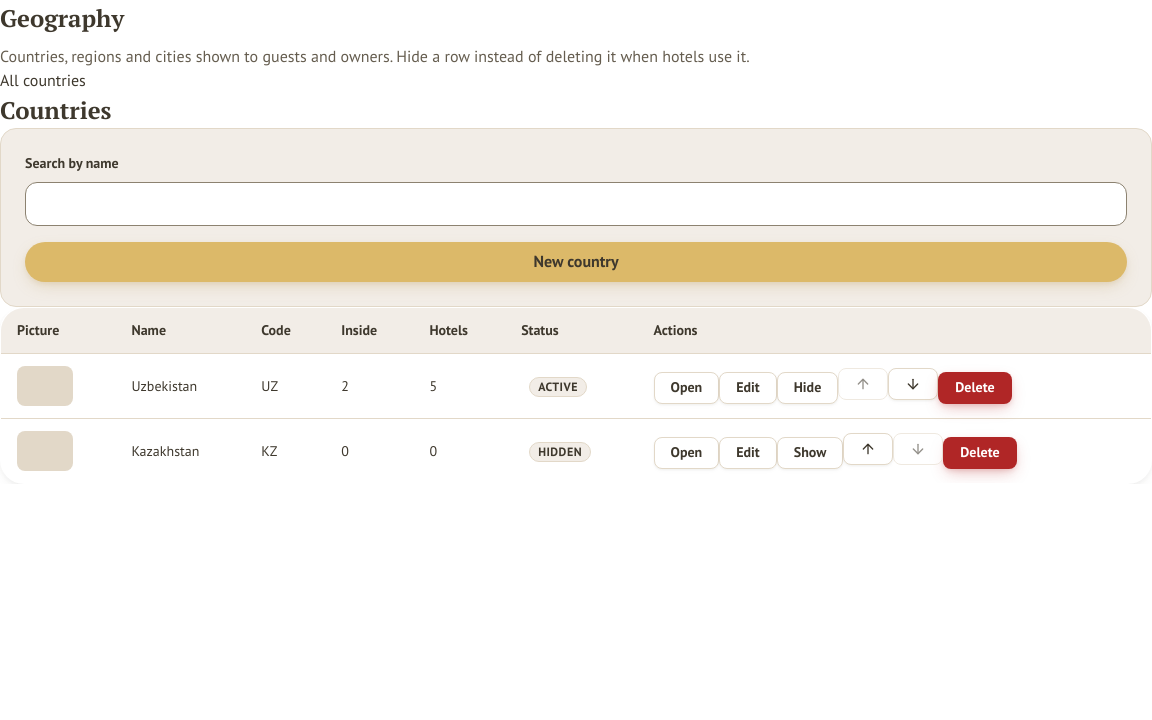
Test: AdminGeography › deletes after a confirmation
The width and height of the screenshot is (1152, 720).
Click the button with aria-label "Delete Kazakhstan".
click(980, 453)  # box [943, 437, 1017, 469]
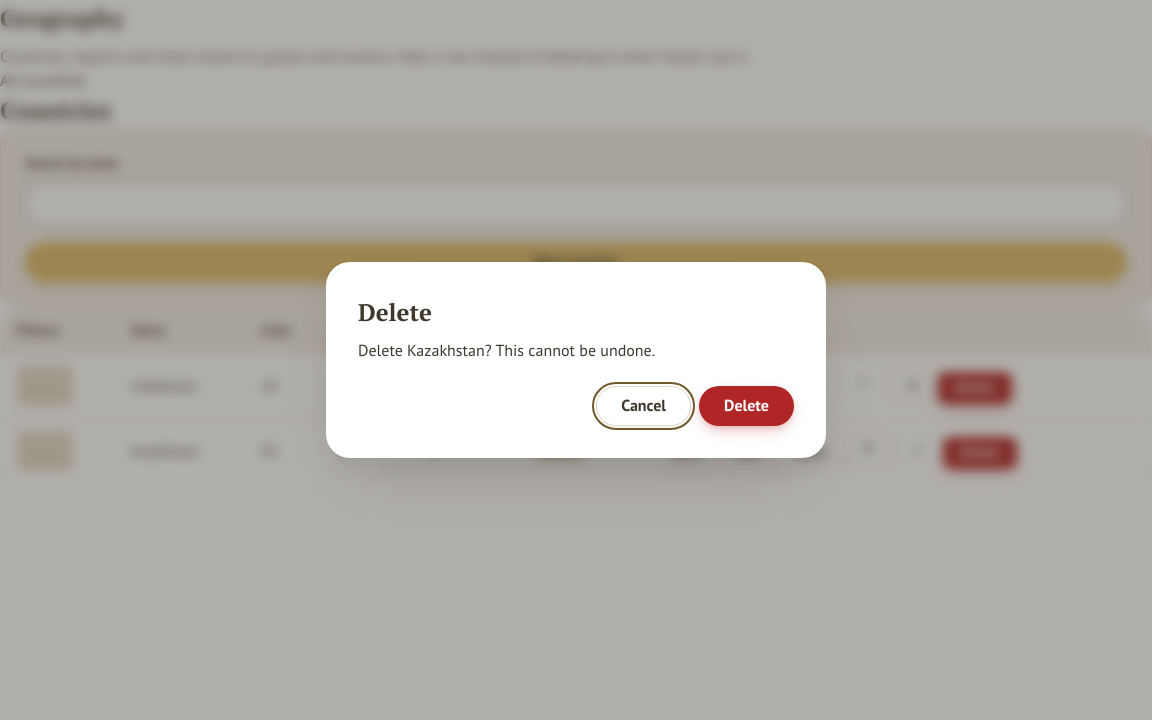
Check: the dialog shows "Delete Kazakhstan? This cannot be undone.", box [358, 340, 655, 360]
Click the button "Delete".
click(746, 406)  # box [699, 386, 794, 426]
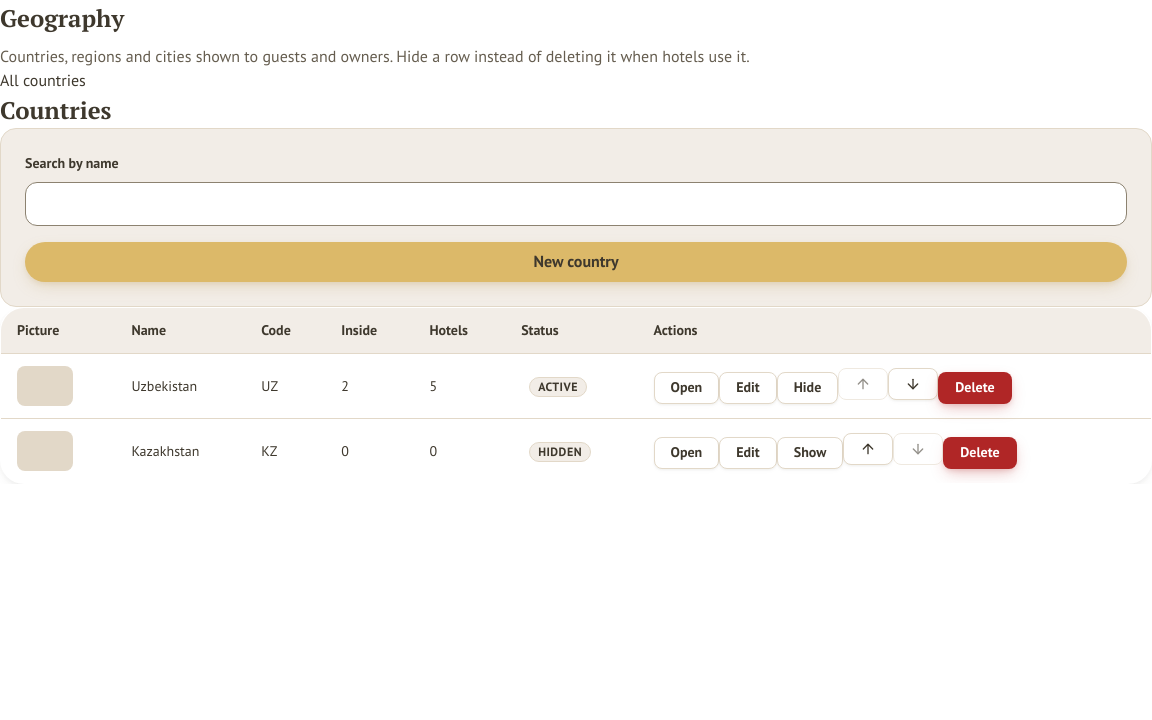
Check: the dialog is gone
